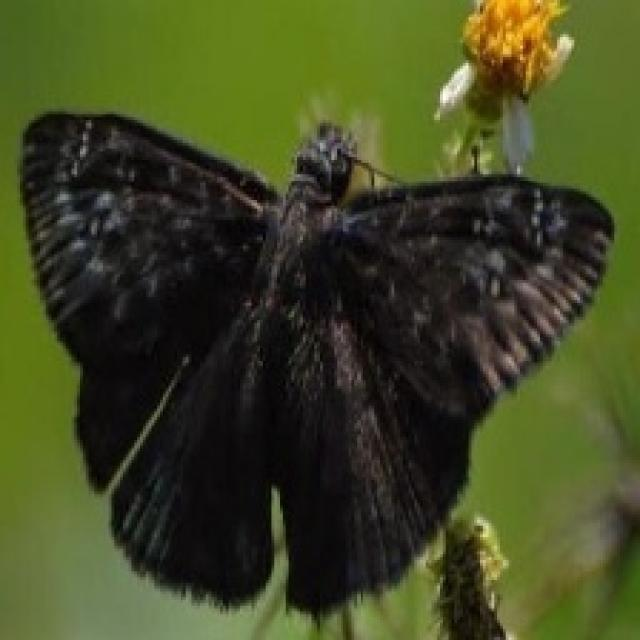butterfly: (14, 100, 614, 623)
